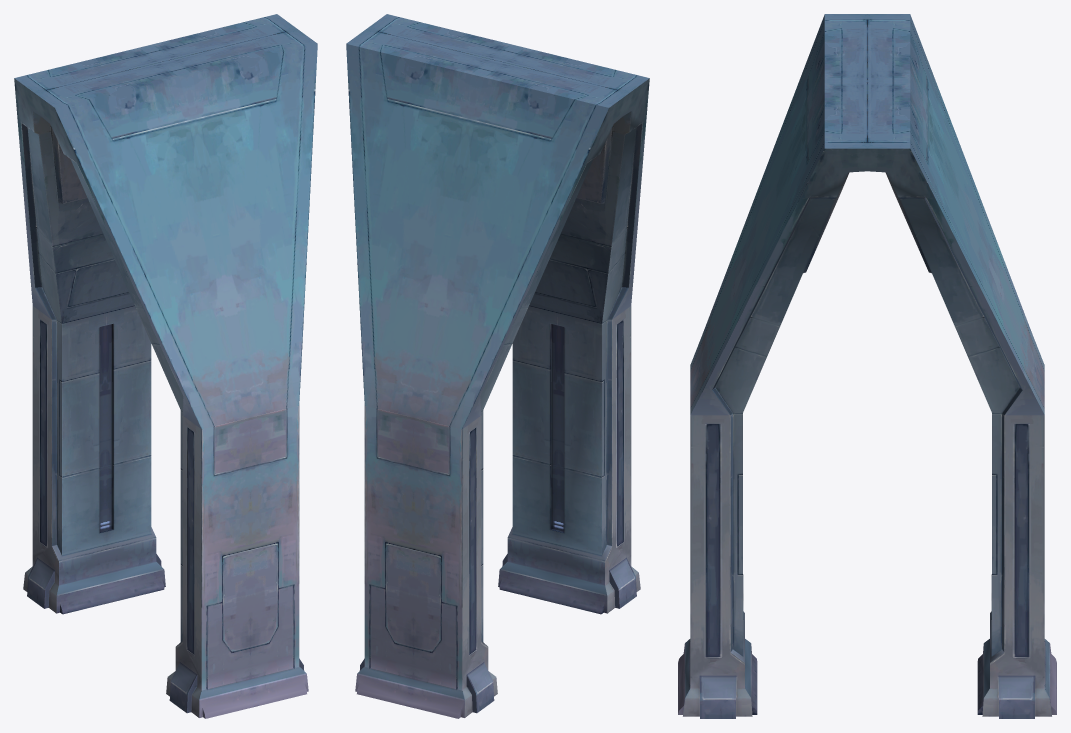
File: sith_academy_door.glb
3 views of the same model, side by side, from view 1: azimuth 30°, elevation 25°; view 2: azimuth 150°, elevation 25°; view 3: azimuth 270°, elevation 25° (orthographic). The views are drawn at different scales.
Visible parts, largest first — view 1: all_sith_interior_hall_door_large; view 2: all_sith_interior_hall_door_large; view 3: all_sith_interior_hall_door_large.
Part boxes in pixels (box(x1,y1,x2,y2)): all_sith_interior_hall_door_large: box(14, 14, 317, 718); all_sith_interior_hall_door_large: box(346, 14, 649, 718); all_sith_interior_hall_door_large: box(678, 14, 1056, 718).
Bounding box in the file's own units: 0.7644 × 1.61 × 0.9097.
1 material, 1 textured.
